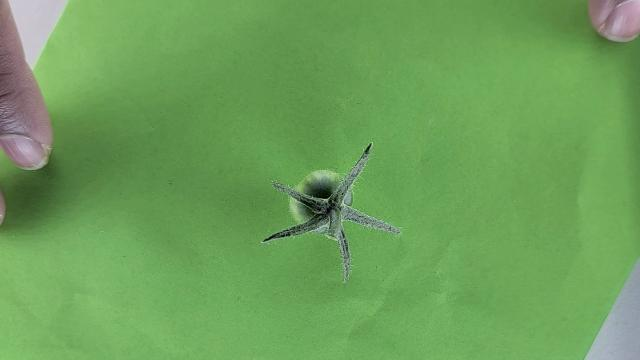Fruit Maturation: (290, 169, 353, 232)
